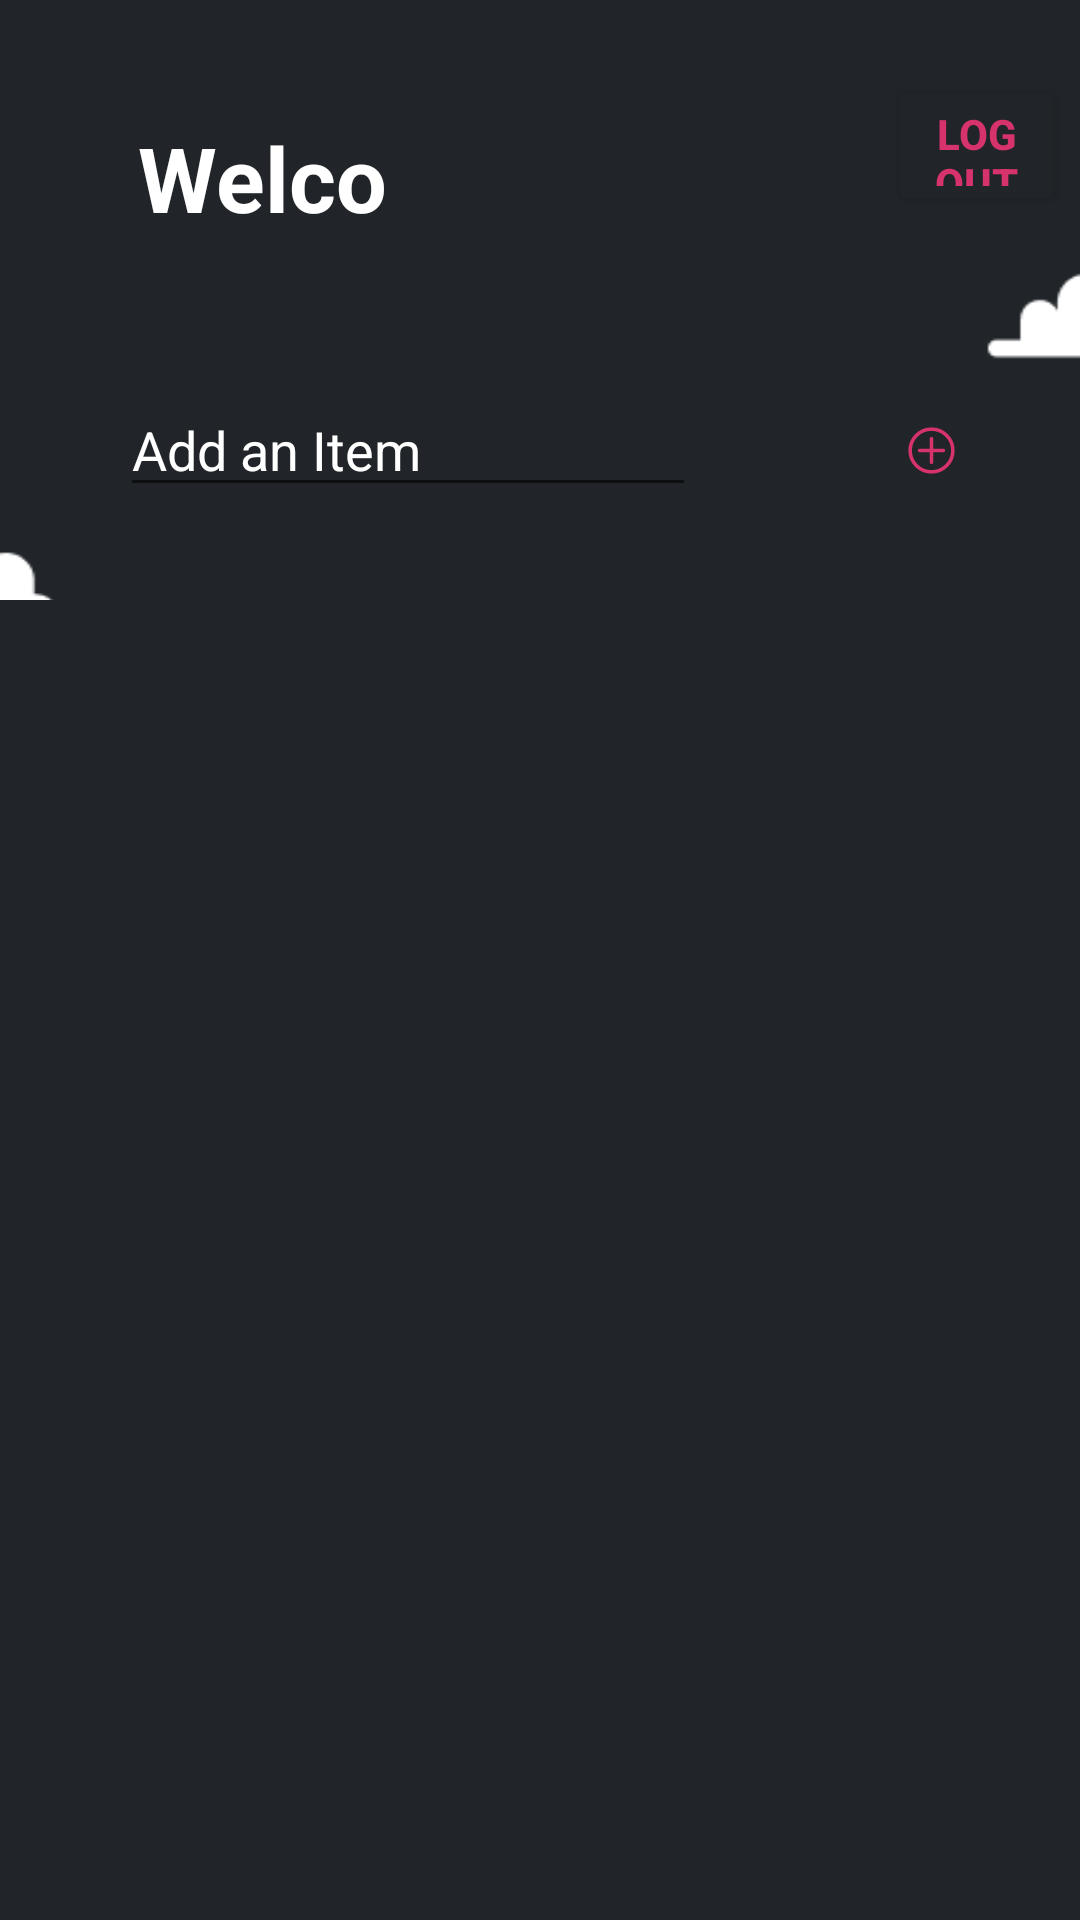

Icon bounding boxes for this 1080px×1920px phone screenshot, format (x1, y1, x2, y2):
plus: (908, 427, 955, 474)
